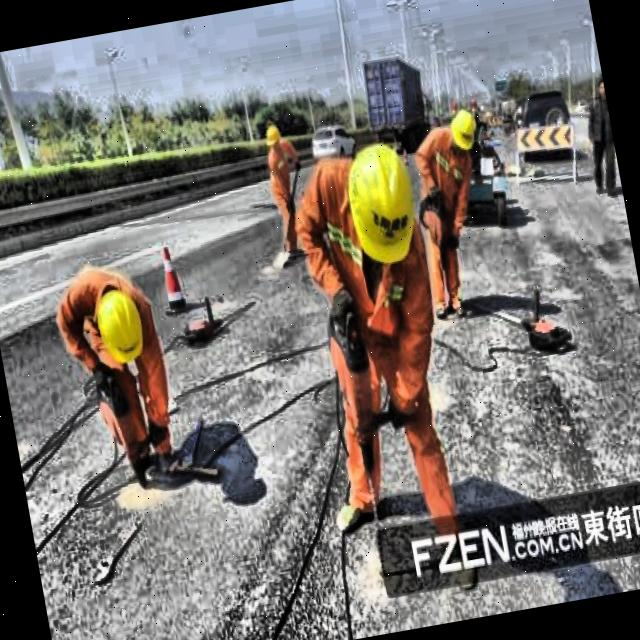helmet: (333, 133, 432, 280), (85, 276, 155, 378), (446, 104, 486, 159), (260, 117, 287, 151)
